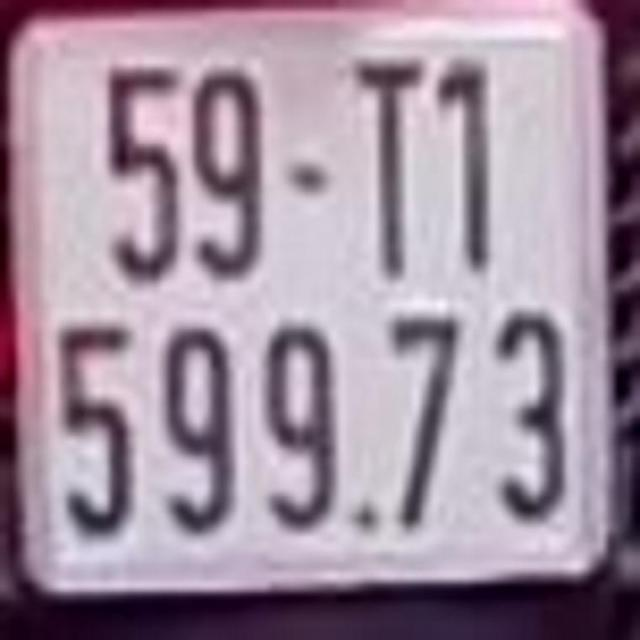1: (434, 51, 507, 272)
3: (490, 303, 569, 520)
5: (102, 53, 182, 284), (51, 320, 138, 529)
7: (379, 306, 464, 529)
9: (256, 310, 343, 532), (190, 61, 268, 274), (158, 324, 238, 530)
T: (344, 45, 428, 278)
